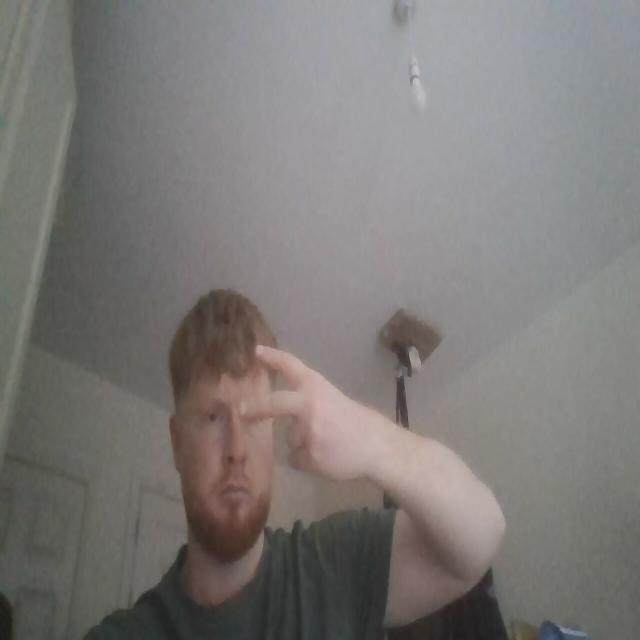scissors: (240, 342, 382, 489)
